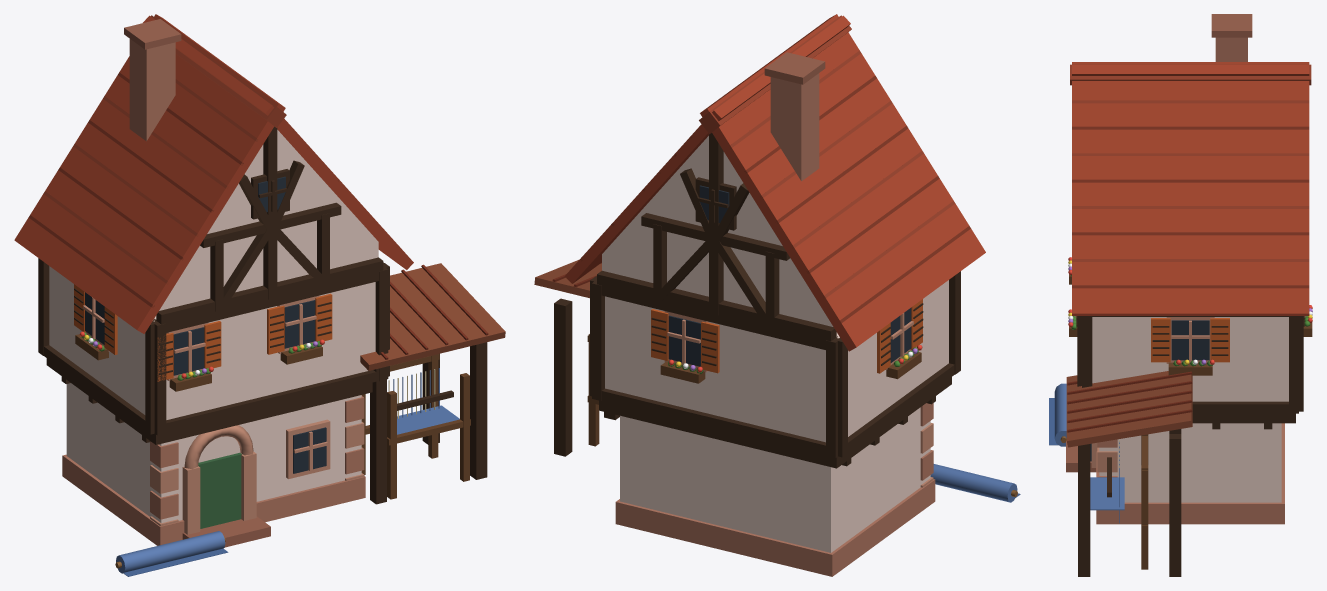
The model's file is weberei.glb.
The picture shows the model from 3 angles, left to right: view 1: azimuth 30°, elevation 25°; view 2: azimuth 150°, elevation 25°; view 3: azimuth 270°, elevation 25°; orthographic projection. The views are drawn at different scales.
Bounding box in the file's own units: 4.29 × 4.73 × 2.6.
